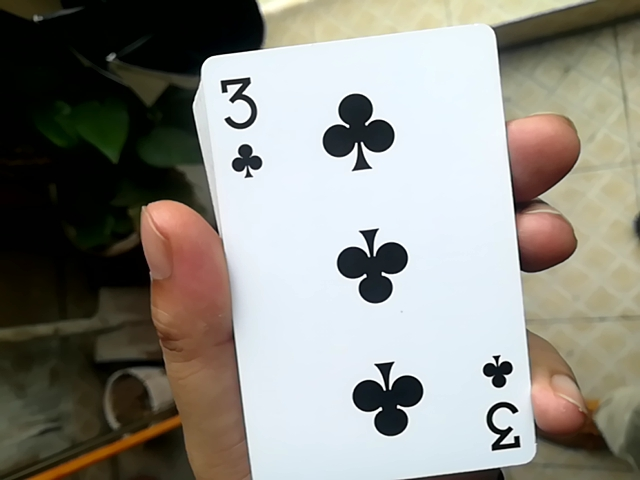mh 3: (178, 36, 534, 479)
